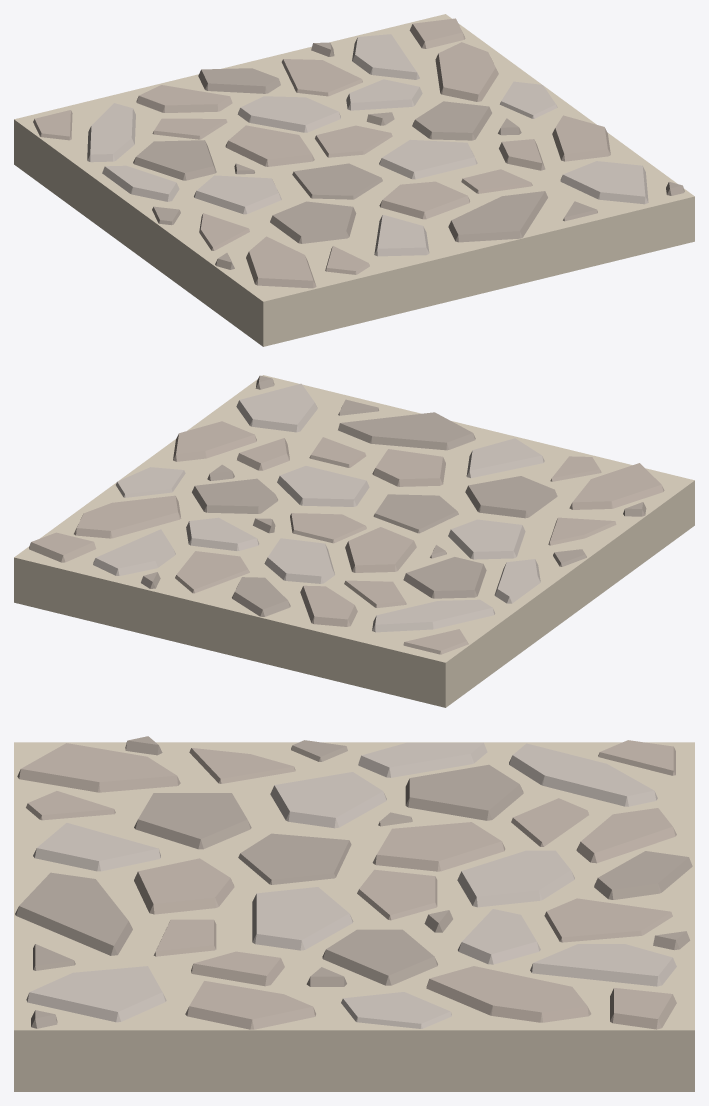
File: object1_139-col.gltf
3 views of the same model, one above another, from view 1: azimuth 30°, elevation 25°; view 2: azimuth 150°, elevation 25°; view 3: azimuth 270°, elevation 25° (orthographic). The views are drawn at different scales.
Parts seen in each view (by area): view 1: object1.139-col; view 2: object1.139-col; view 3: object1.139-col.
Boxes of the visible parts, bbox=[...] form: object1.139-col: bbox=[14, 14, 694, 346]; object1.139-col: bbox=[14, 375, 694, 707]; object1.139-col: bbox=[14, 736, 694, 1091].
Bounding box in the file's own units: 2 × 0.2281 × 2.
